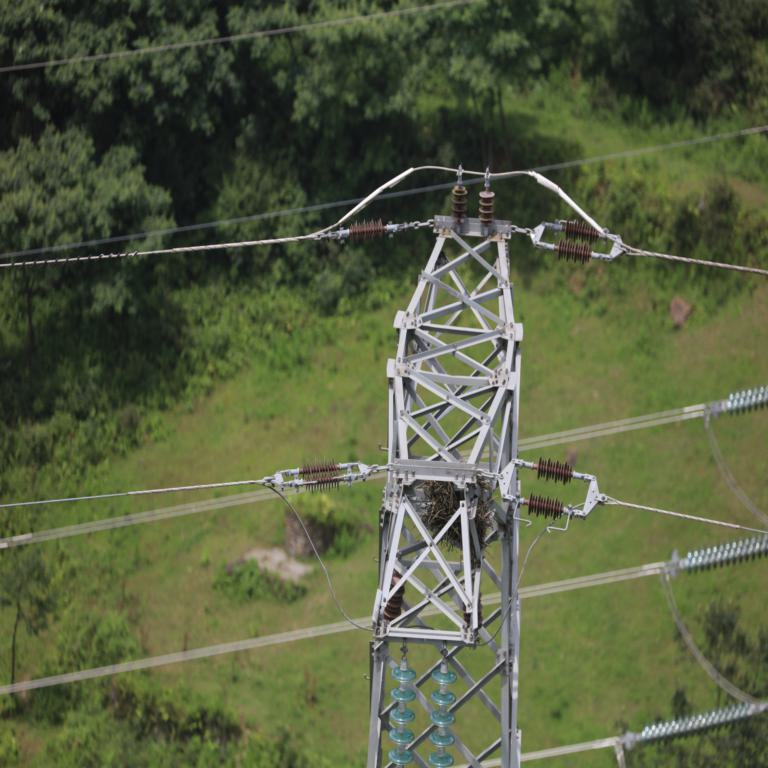nest: (424, 474, 487, 557)
